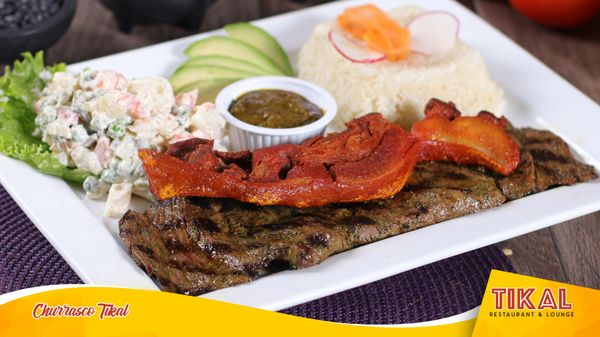soup: (296, 3, 510, 131)
sushi: (215, 75, 337, 153)
